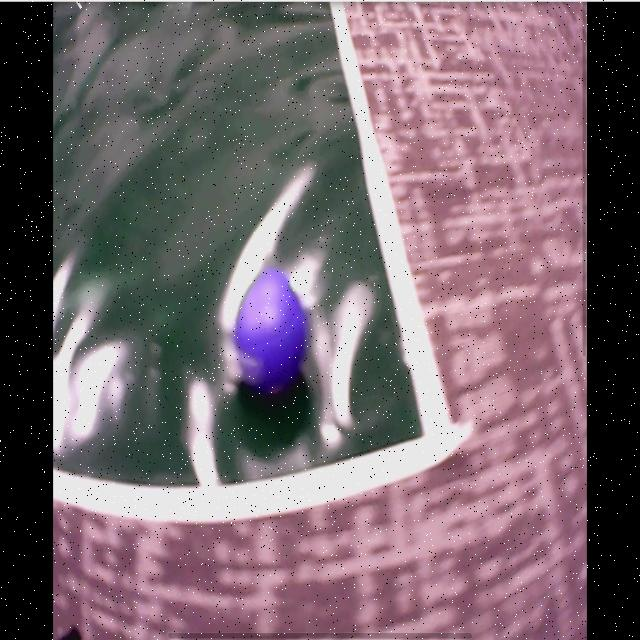ball: (235, 267, 308, 393)
